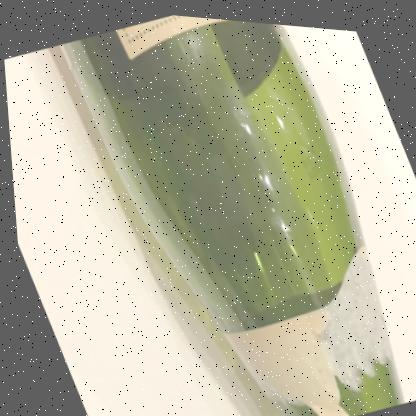Glass: (62, 12, 400, 416)
